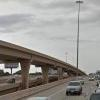Bridge: (4, 28, 79, 79)
